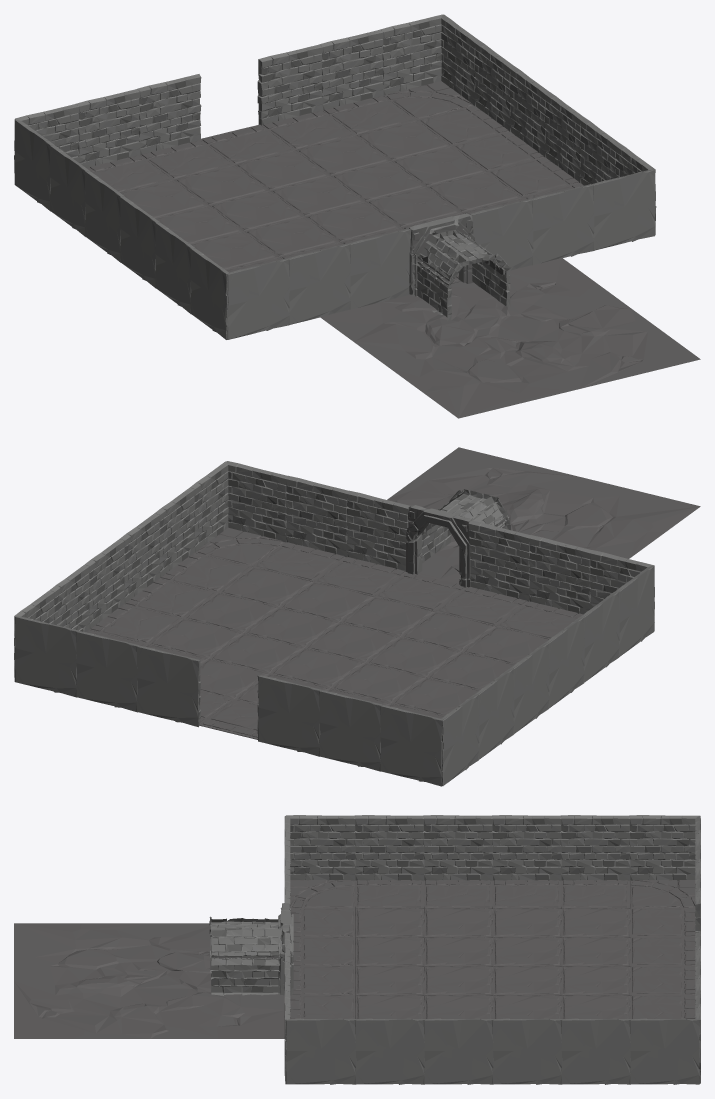
Rendered from Stage3.fbx.
The picture shows the model from 3 angles, top to bottom: view 1: azimuth 30°, elevation 25°; view 2: azimuth 150°, elevation 25°; view 3: azimuth 270°, elevation 25°; orthographic projection. The views are drawn at different scales.
Parts seen in each view (by area): view 1: SM_Env_CrackedRock_1, SM_Env_Wall_Tunnel_1, SM_Env_Wall_50, SM_Env_Wall_65, SM_Env_Wall_70, SM_Env_Wall_69, SM_Env_Wall_66, SM_Env_Wall_51, SM_Env_Wall_49, SM_Env_Wall_48, SM_Env_Wall_67, SM_Env_Wall_52 (+39 smaller); view 2: SM_Env_CrackedRock_1, SM_Env_Wall_50, SM_Env_Wall_47, SM_Env_Wall_52, SM_Env_Wall_49, SM_Env_Wall_48, SM_Env_Wall_51, SM_Env_Wall_69, SM_Env_Wall_66, SM_Env_Wall_68, SM_Env_Wall_67, SM_Env_Wall_70 (+43 smaller); view 3: SM_Env_CrackedRock_1, SM_Env_Wall_Tunnel_1, SM_Env_Wall_59, SM_Env_Wall_64, SM_Env_Wall_62, SM_Env_Wall_61, SM_Env_Wall_60, SM_Env_Wall_63, SM_Env_Wall_54, SM_Env_Wall_57, SM_Env_Wall_56, SM_Env_Wall_55 (+33 smaller).
Boxes of the visible parts, left/top/right/bottom form: SM_Env_CrackedRock_1: left=320, top=258, right=700, bottom=418; SM_Env_Wall_Tunnel_1: left=412, top=228, right=510, bottom=321; SM_Env_Wall_50: left=257, top=44, right=322, bottom=125; SM_Env_Wall_65: left=227, top=258, right=289, bottom=339; SM_Env_Wall_70: left=592, top=169, right=656, bottom=250; SM_Env_Wall_69: left=531, top=184, right=594, bottom=265; SM_Env_Wall_66: left=287, top=243, right=350, bottom=325; SM_Env_Wall_51: left=319, top=29, right=383, bottom=110; SM_Env_Wall_49: left=137, top=74, right=201, bottom=154; SM_Env_Wall_48: left=76, top=89, right=140, bottom=167; SM_Env_Wall_67: left=348, top=228, right=411, bottom=309; SM_Env_Wall_52: left=380, top=14, right=442, bottom=95; SM_Env_CrackedRock_1: left=387, top=447, right=700, bottom=582; SM_Env_Wall_50: left=136, top=645, right=201, bottom=727; SM_Env_Wall_47: left=379, top=705, right=443, bottom=786; SM_Env_Wall_52: left=14, top=616, right=78, bottom=697; SM_Env_Wall_49: left=257, top=675, right=321, bottom=756; SM_Env_Wall_48: left=318, top=690, right=382, bottom=771; SM_Env_Wall_51: left=75, top=631, right=139, bottom=712; SM_Env_Wall_69: left=285, top=475, right=348, bottom=557; SM_Env_Wall_66: left=528, top=535, right=591, bottom=614; SM_Env_Wall_68: left=346, top=490, right=410, bottom=571; SM_Env_Wall_67: left=468, top=520, right=530, bottom=601; SM_Env_Wall_70: left=226, top=461, right=287, bottom=542; SM_Env_CrackedRock_1: left=14, top=923, right=284, bottom=1038; SM_Env_Wall_Tunnel_1: left=209, top=916, right=280, bottom=995; SM_Env_Wall_59: left=629, top=1018, right=700, bottom=1084; SM_Env_Wall_64: left=285, top=1018, right=356, bottom=1084; SM_Env_Wall_62: left=423, top=1018, right=493, bottom=1084; SM_Env_Wall_61: left=491, top=1018, right=562, bottom=1084; SM_Env_Wall_60: left=560, top=1018, right=630, bottom=1084; SM_Env_Wall_63: left=354, top=1018, right=424, bottom=1084; SM_Env_Wall_54: left=354, top=815, right=424, bottom=880; SM_Env_Wall_57: left=560, top=815, right=630, bottom=880; SM_Env_Wall_56: left=492, top=815, right=561, bottom=880; SM_Env_Wall_55: left=423, top=815, right=492, bottom=880.
Size of the model in its own units: 3532 by 5002 by 536.
